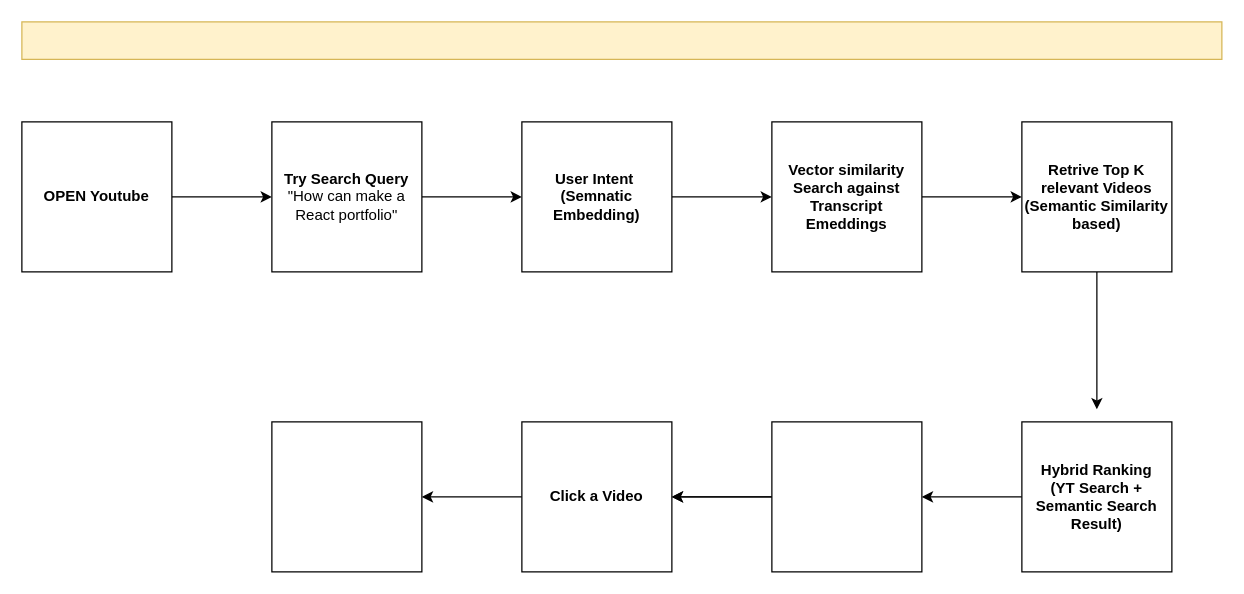
The diagram is 1244 pixels wide and 594 high, and some of its shapes have lost their labels. Here are the shapes that lost their labels. From the top down, the centre of each, then its label:
the point at 621,40: Semantic Similarity based Search Experience
the point at 346,496: Watch and Get Satisified
the point at 846,496: Get Ranked and Personalized Result
